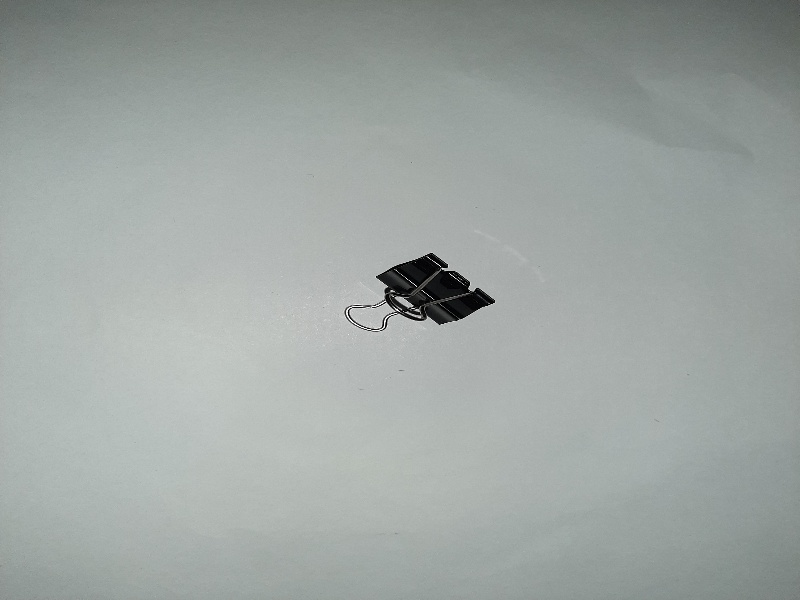Big Paperclip: (339, 249, 504, 341)
